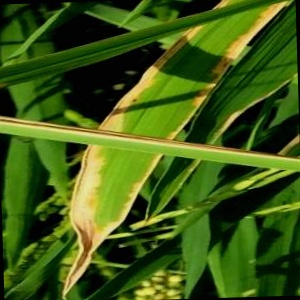Leaf_Blast: (68, 142, 148, 249)
